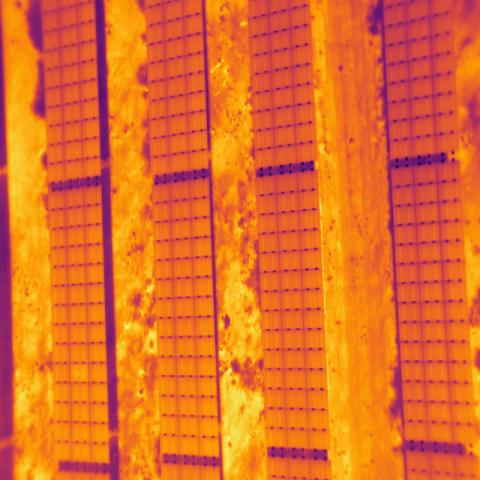fault: (70, 364, 88, 385)
